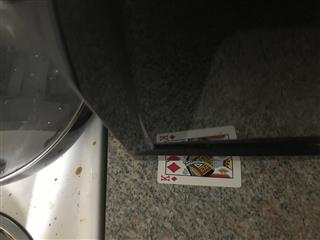KingOfDiamonds: (157, 158, 242, 188)
